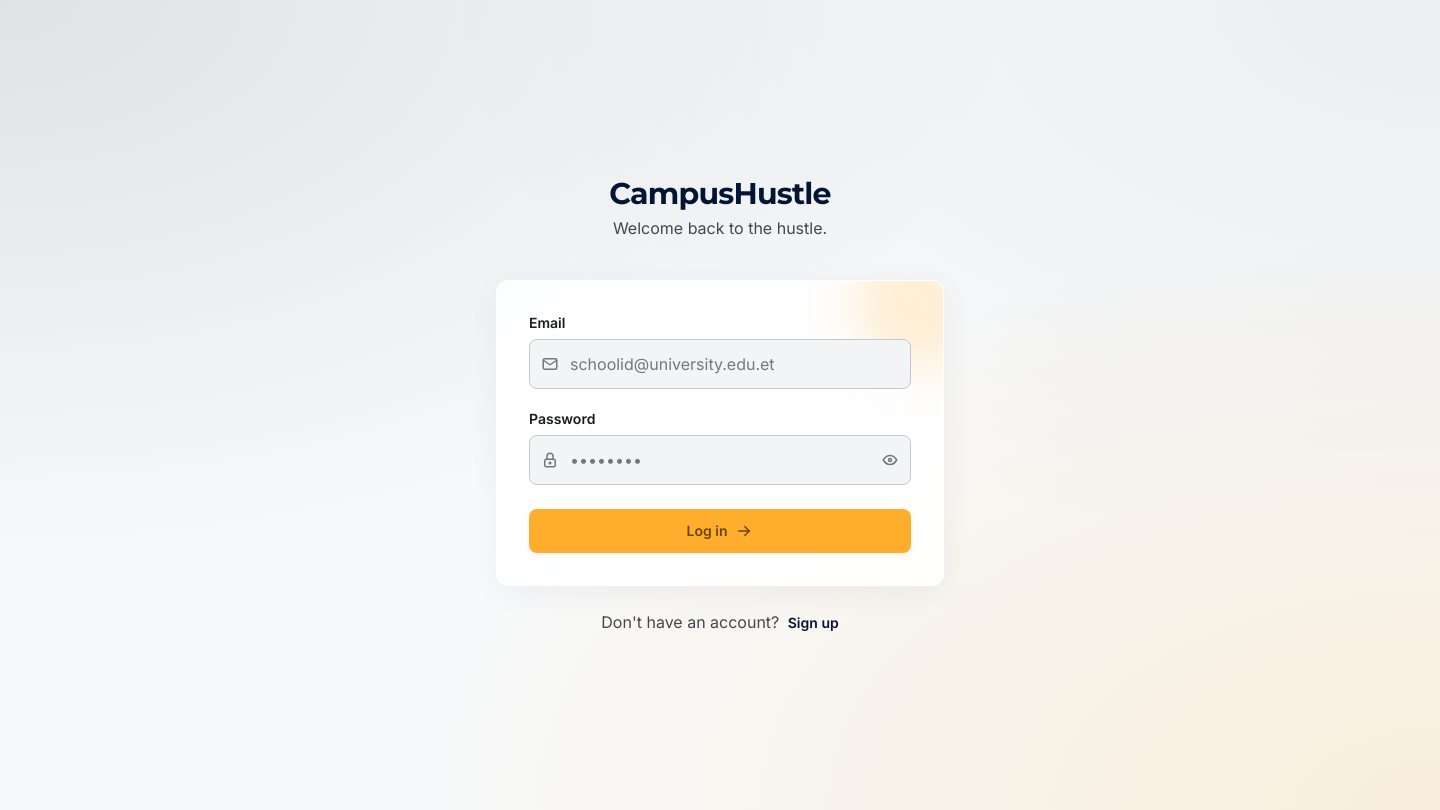
Test case: App navigation and session persistence › navigates to My Profile when the profile icon is clicked
Type "student@campus.edu.et" into the field labelled "Email" at (720, 364), box [529, 339, 911, 389]
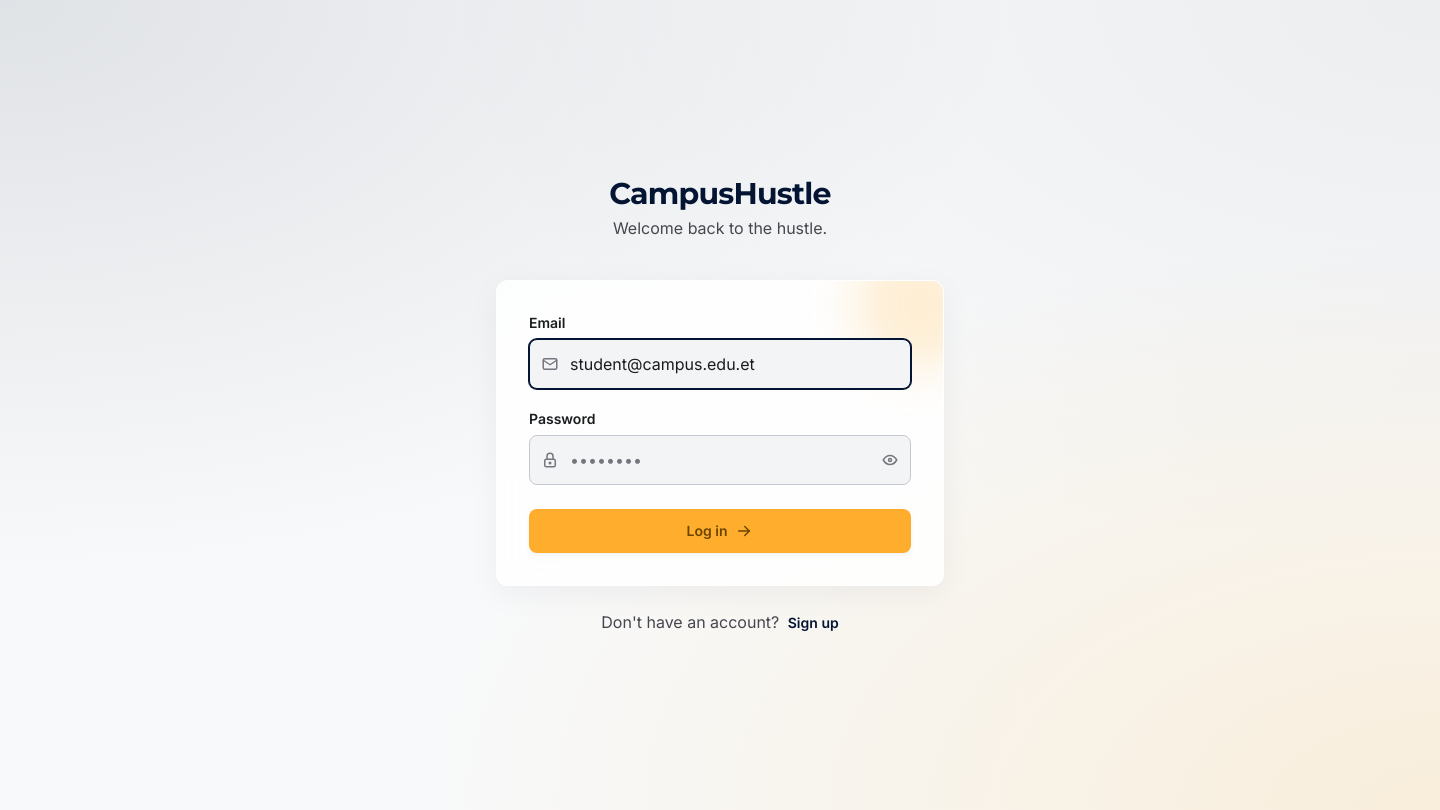
Type "password123" into the password field labelled "Password" at (720, 460), box [529, 435, 911, 485]
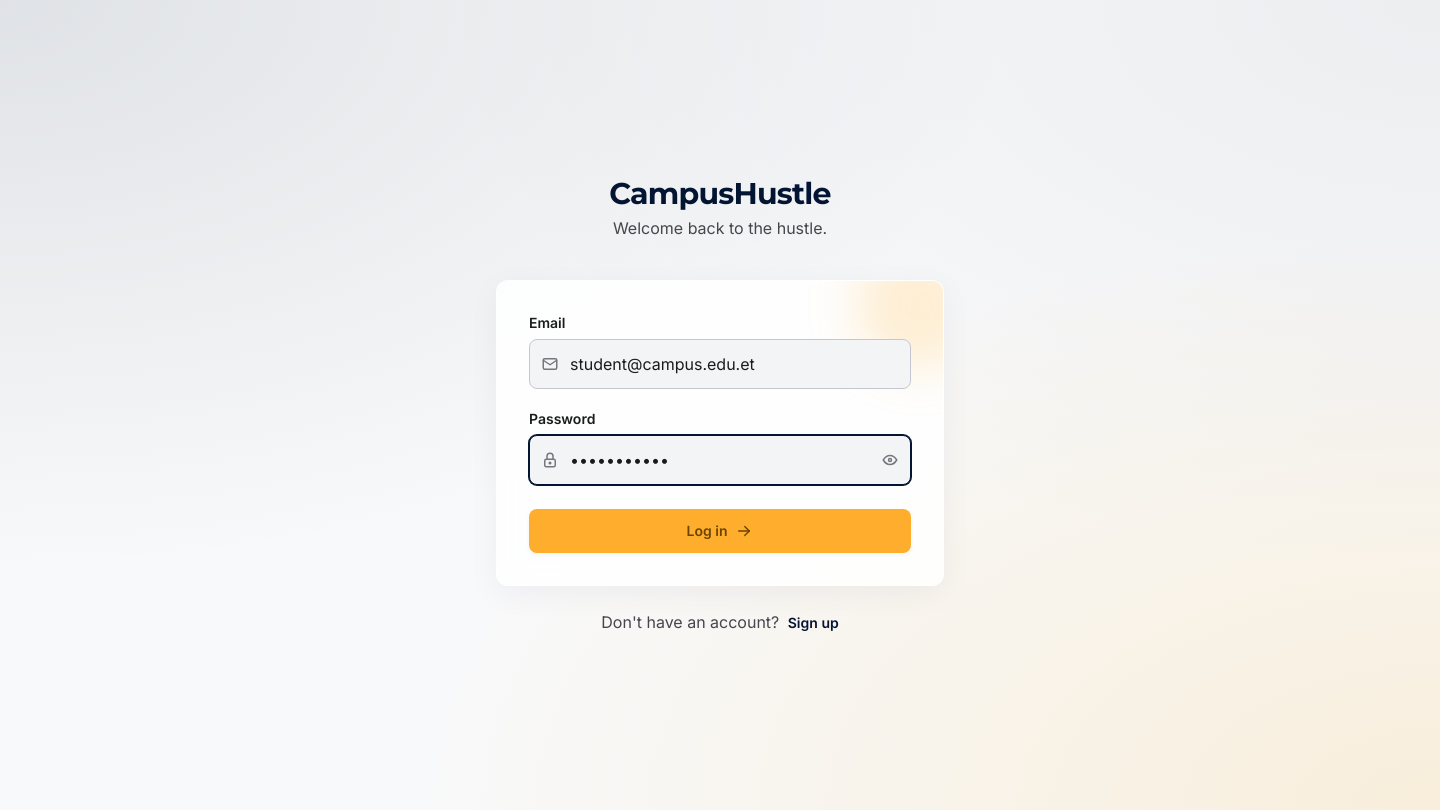
Click the button "Log in" at (720, 531), box [529, 509, 911, 553]
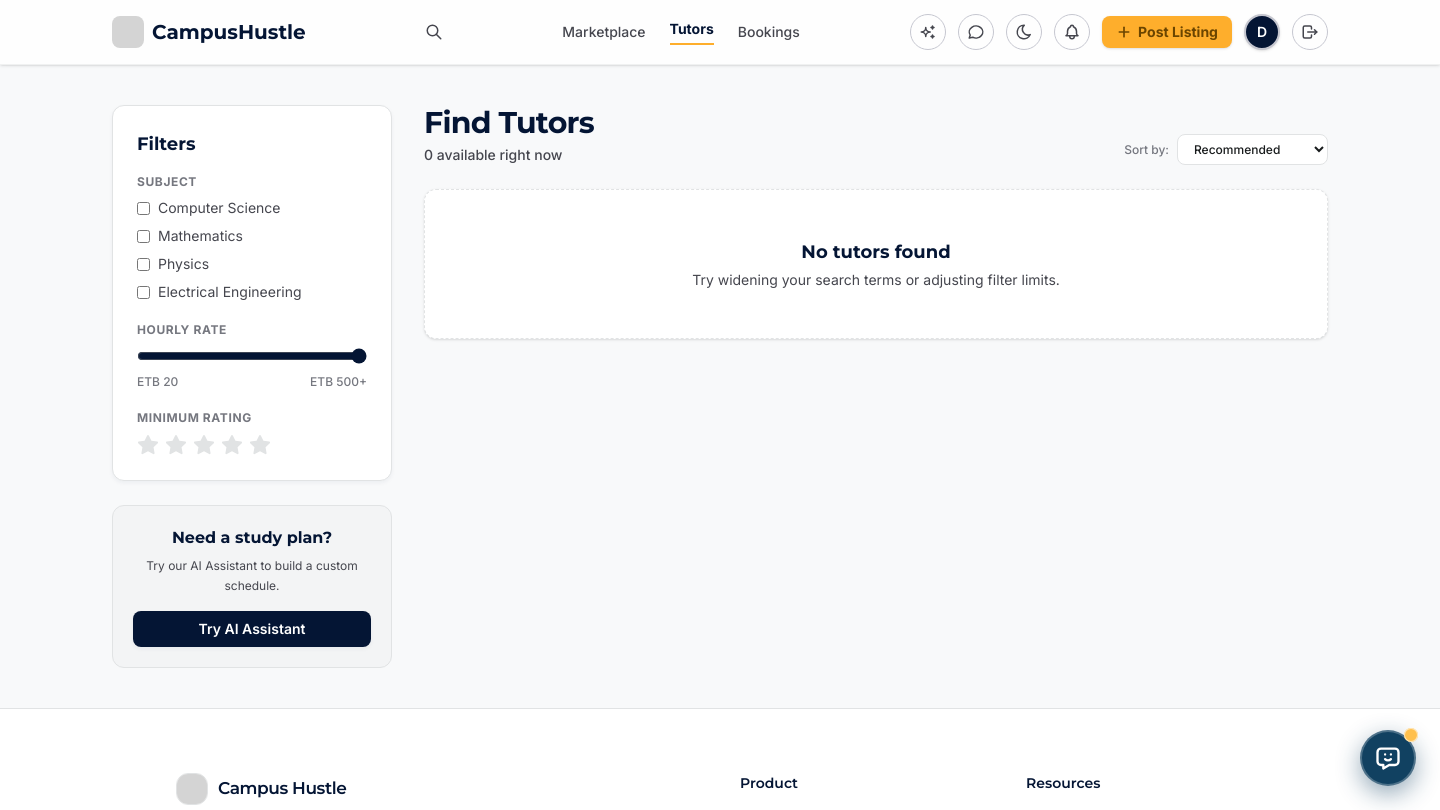
Result: the heading "Find Tutors" is shown at [424, 105, 594, 141]
Click the button named "View my profile" at (1262, 32), box [1244, 14, 1280, 50]
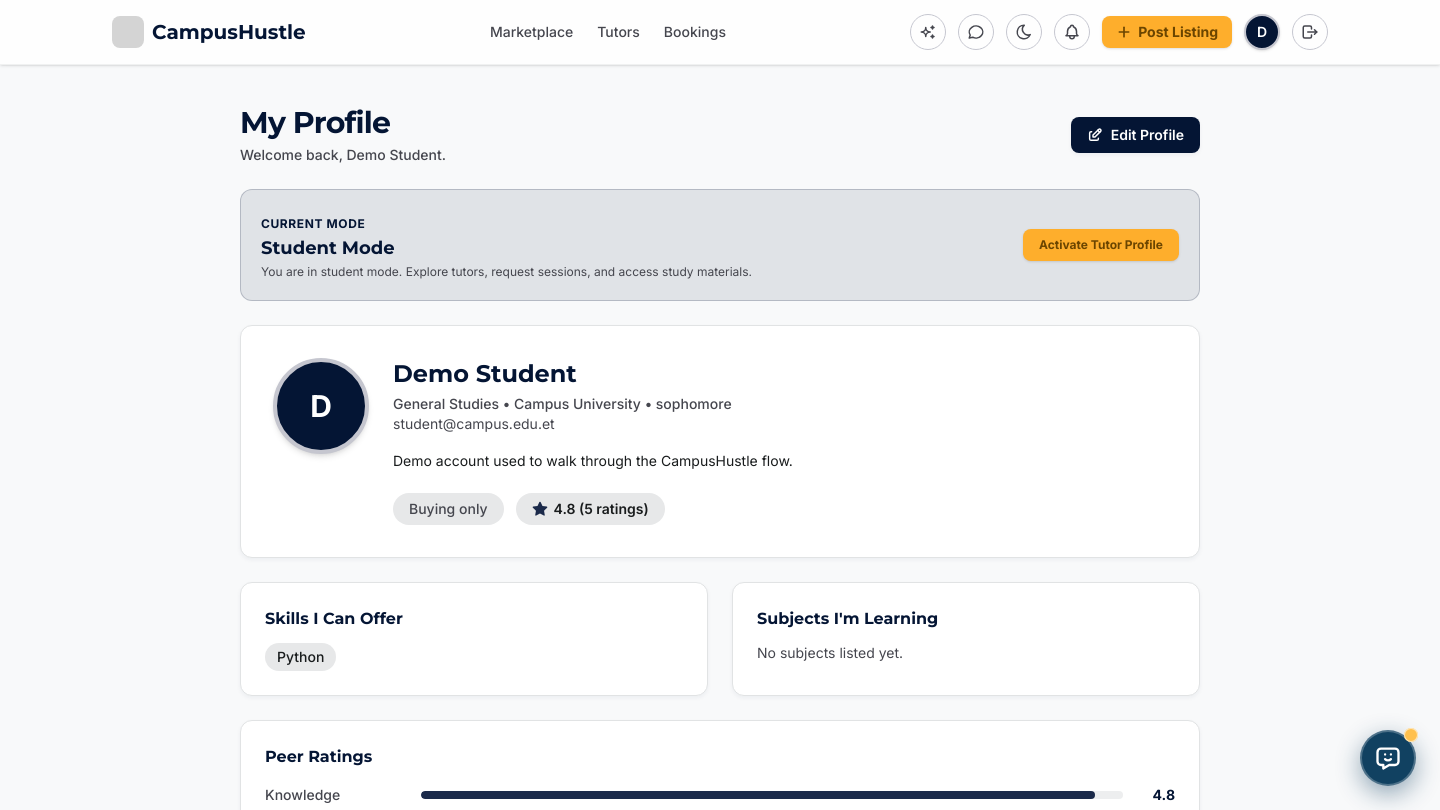
Result: the heading "My Profile" is shown at [240, 104, 390, 141]
Result: the heading "Demo Student" is shown at [393, 359, 577, 388]
Result: the text "General Studies • Campus University • sophomore" is shown at [393, 395, 732, 412]
